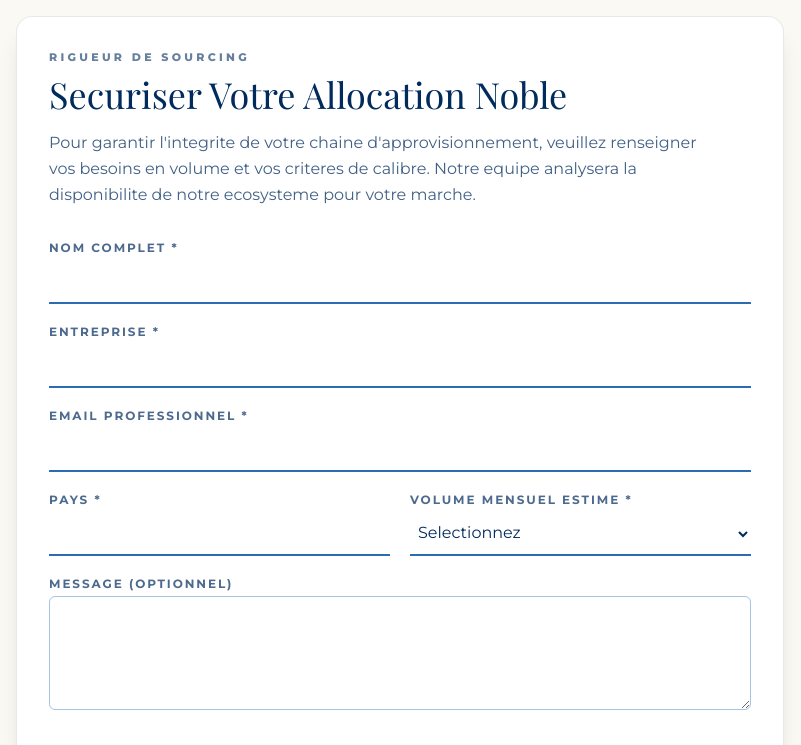
RequestQuotePage › marks invalid email on blur
Type "invalid-email" into the field labelled "Email professionnel *".
click(400, 450); type("invalid-email")  # box [49, 428, 751, 472]
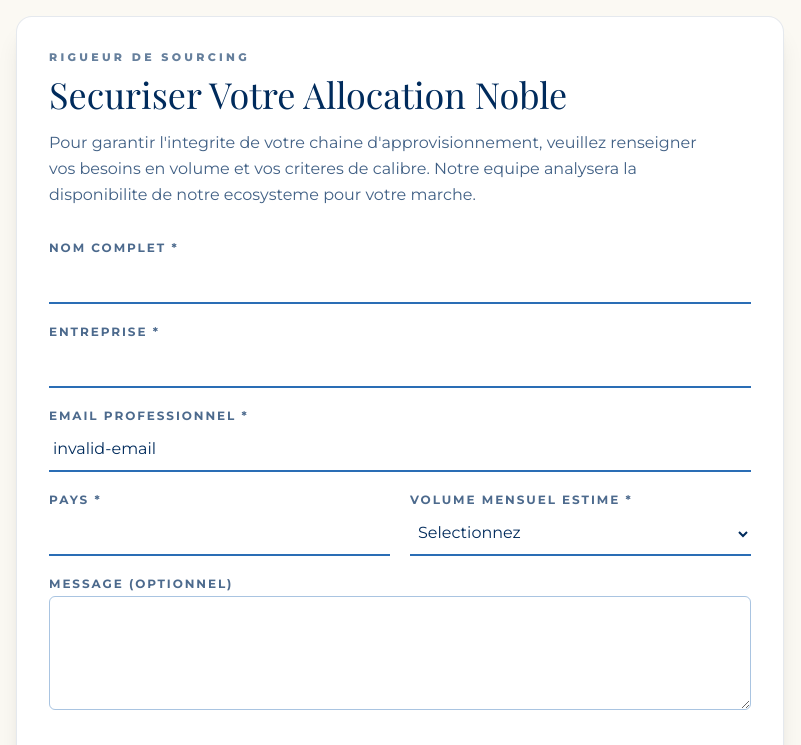
Leave the field labelled "Email professionnel *", box [49, 428, 751, 472]
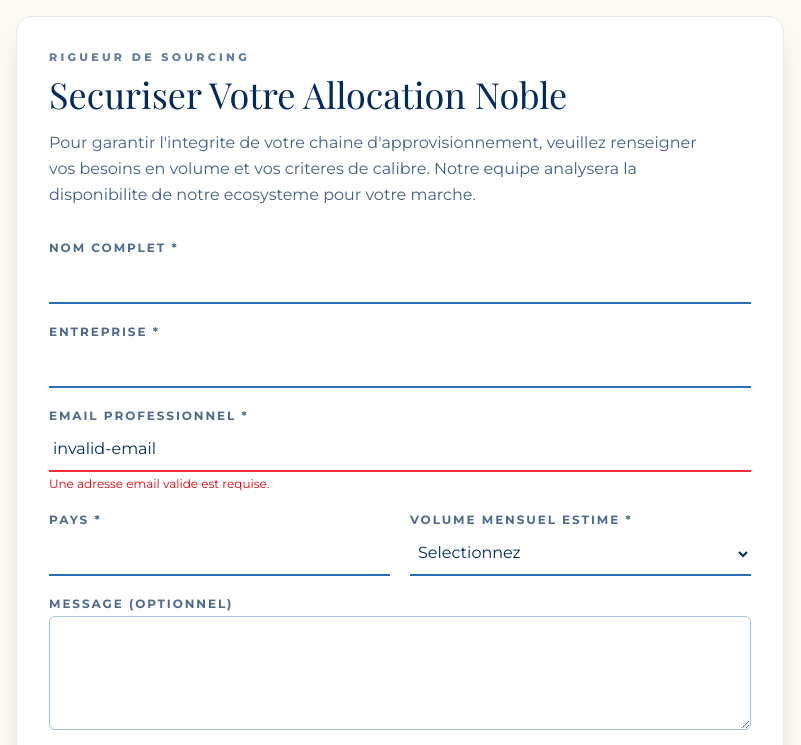
Expected: the text "Une adresse email valide est requise." is shown, [49, 476, 269, 490]
